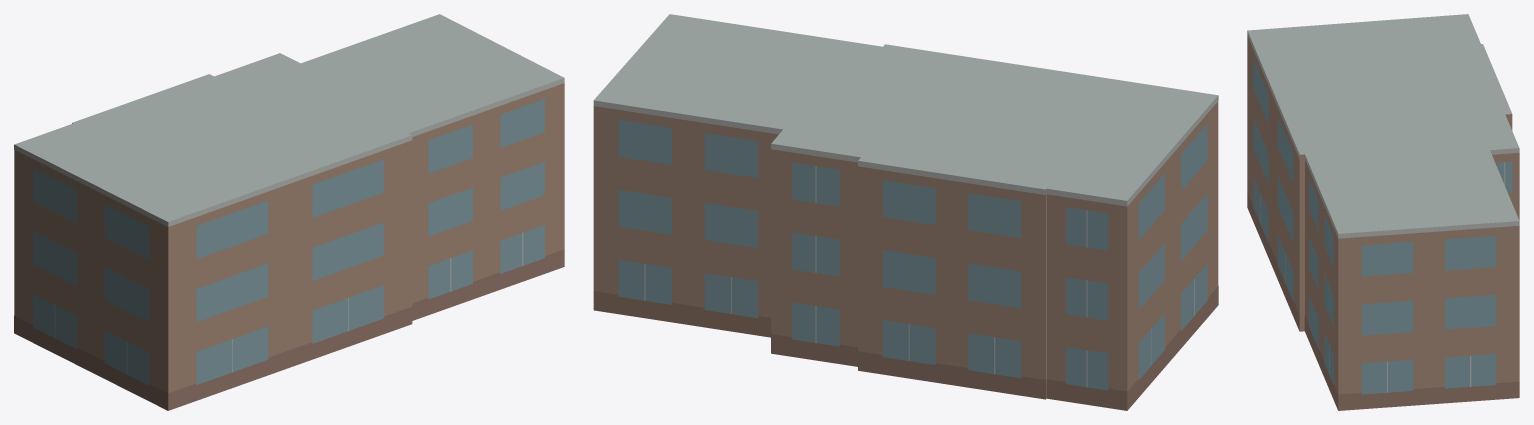
Rendered from survey-upis-32800104.glb.
3 renders of one model, left to right at view 1: azimuth 30°, elevation 25°; view 2: azimuth 150°, elevation 25°; view 3: azimuth 270°, elevation 25°, orthographic. The views are drawn at different scales.
Parts seen in each view (by area): view 1: survey-upis-32800104.tmp; view 2: survey-upis-32800104.tmp; view 3: survey-upis-32800104.tmp.
Part boxes in pixels (bbox=[...]): survey-upis-32800104.tmp: bbox=[14, 14, 564, 410]; survey-upis-32800104.tmp: bbox=[593, 14, 1218, 410]; survey-upis-32800104.tmp: bbox=[1247, 14, 1519, 410].
Size of the model in its own units: 24.4 by 9.15 by 12.77.
